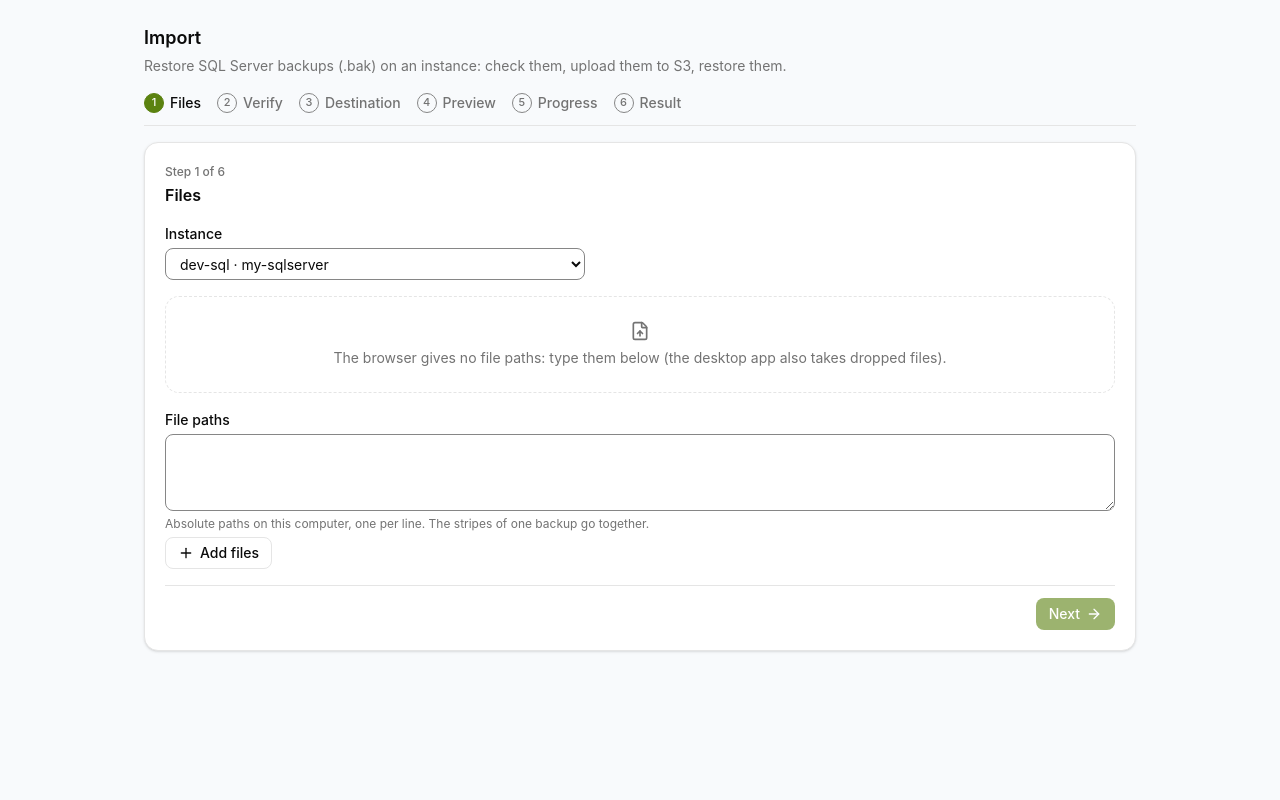
Test case: ImportPage › refuses a relative path and shows why the inspection failed
Type "backups/app.bak" into the text box labelled "File paths" at {"x": 640, "y": 472}, box 165,434 -> 1115,510
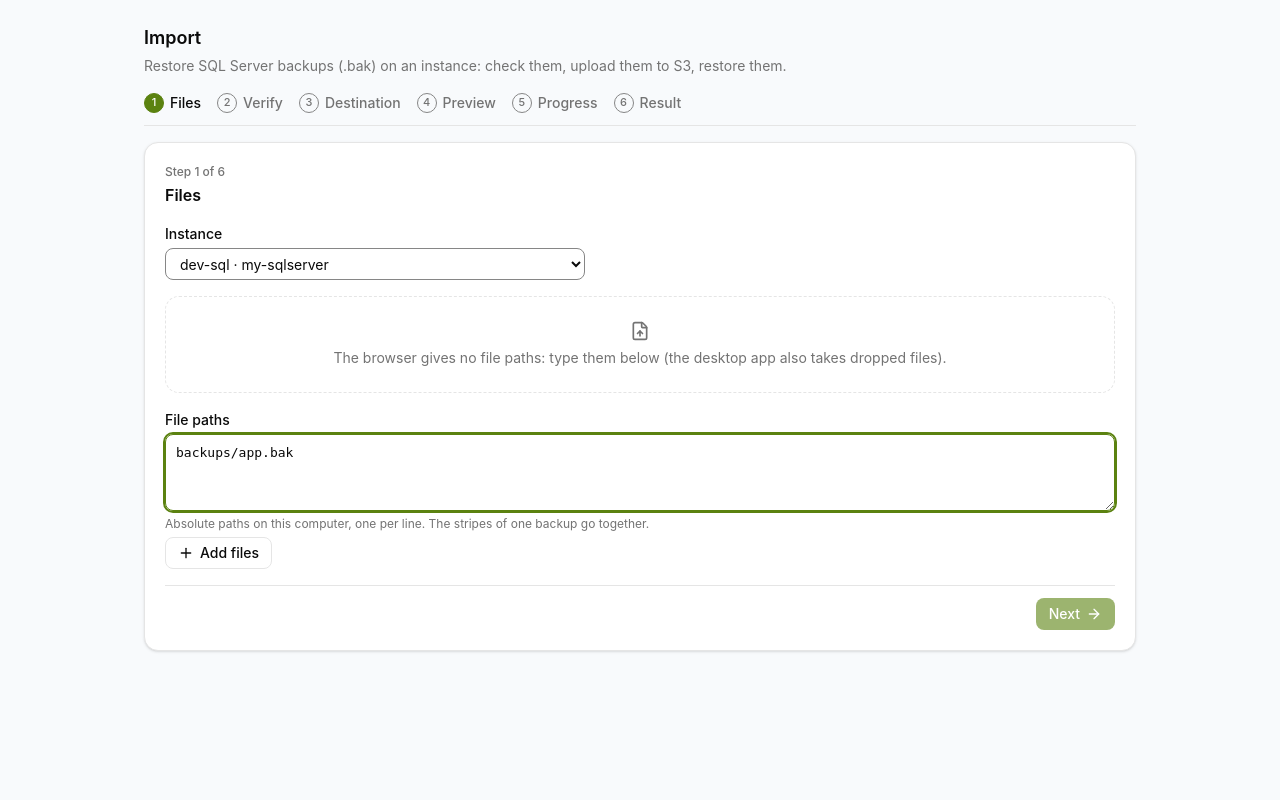
Click the button "Add files" at {"x": 218, "y": 552}, box 165,536 -> 272,568
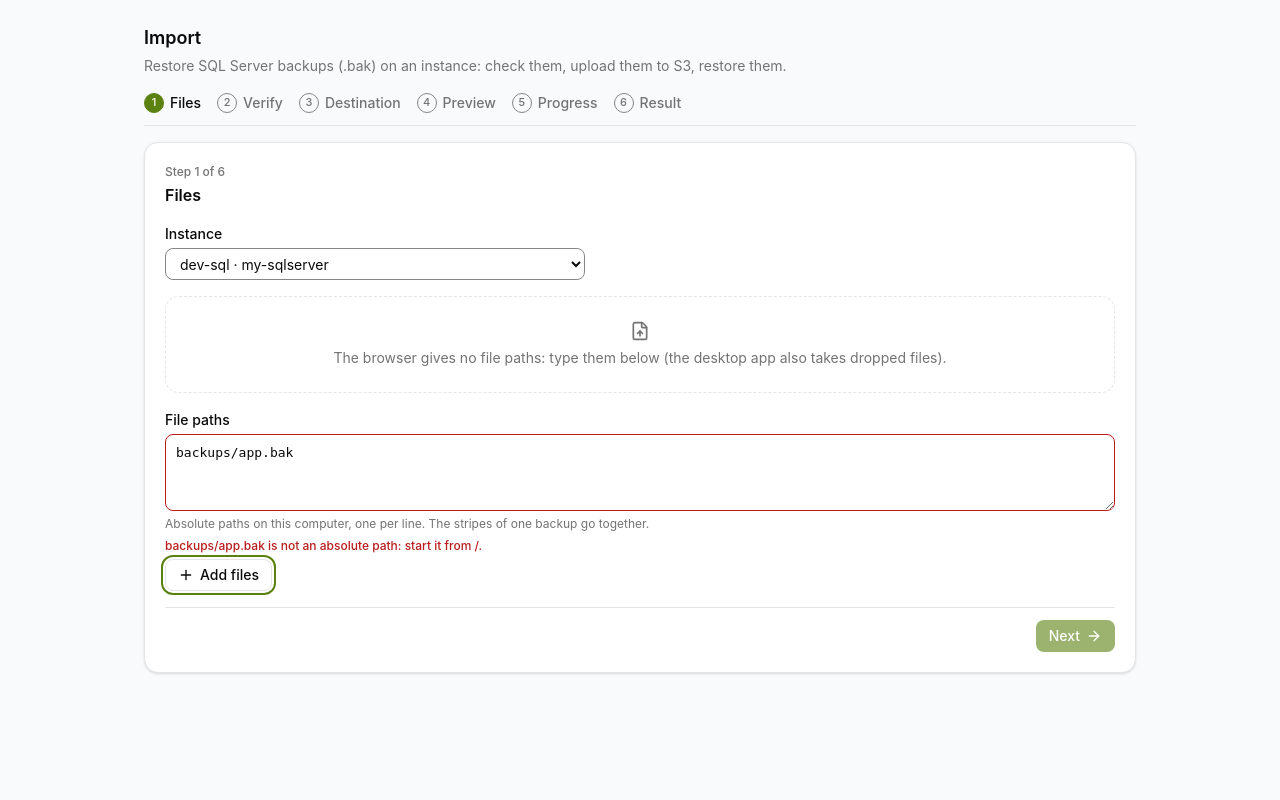
Replace the text in the text box labelled "File paths" with "/data/missing.bak" at {"x": 640, "y": 472}, box 165,434 -> 1115,510
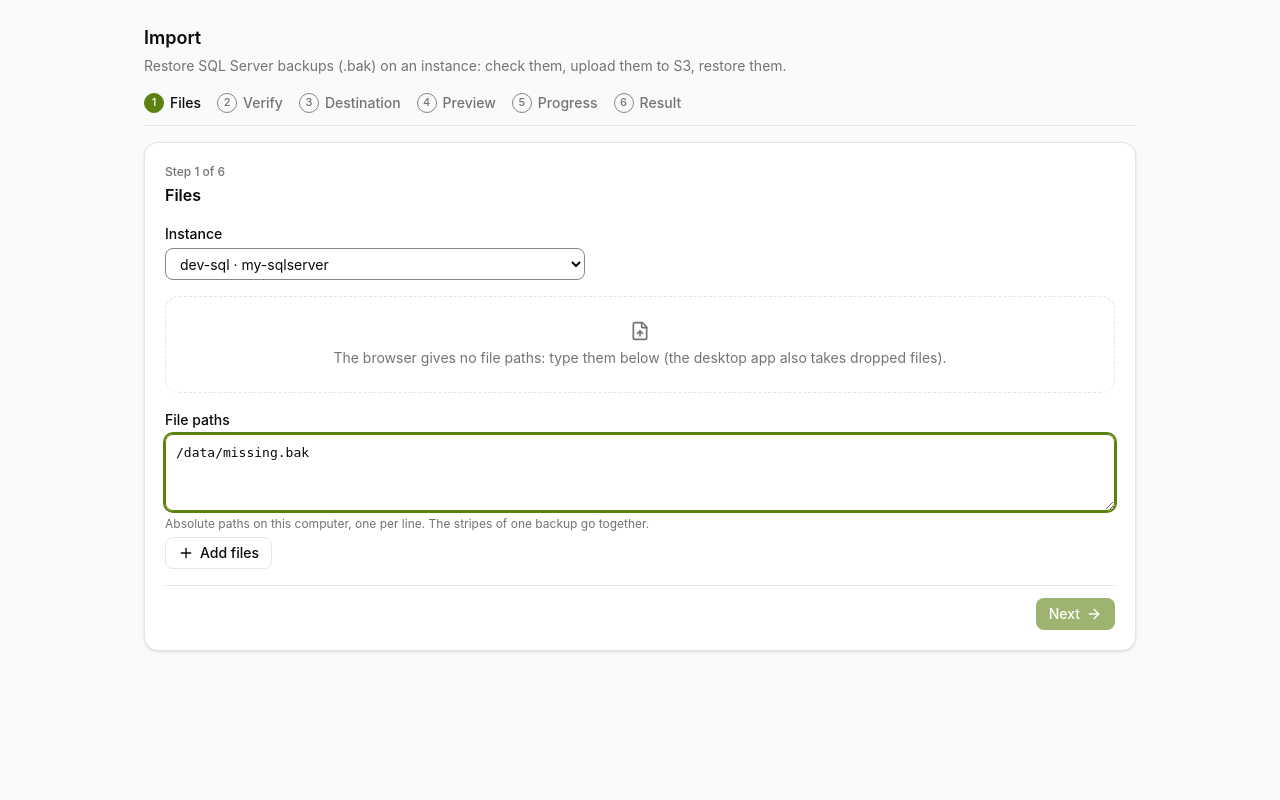
Click the button "Add files" at {"x": 218, "y": 552}, box 165,536 -> 272,568
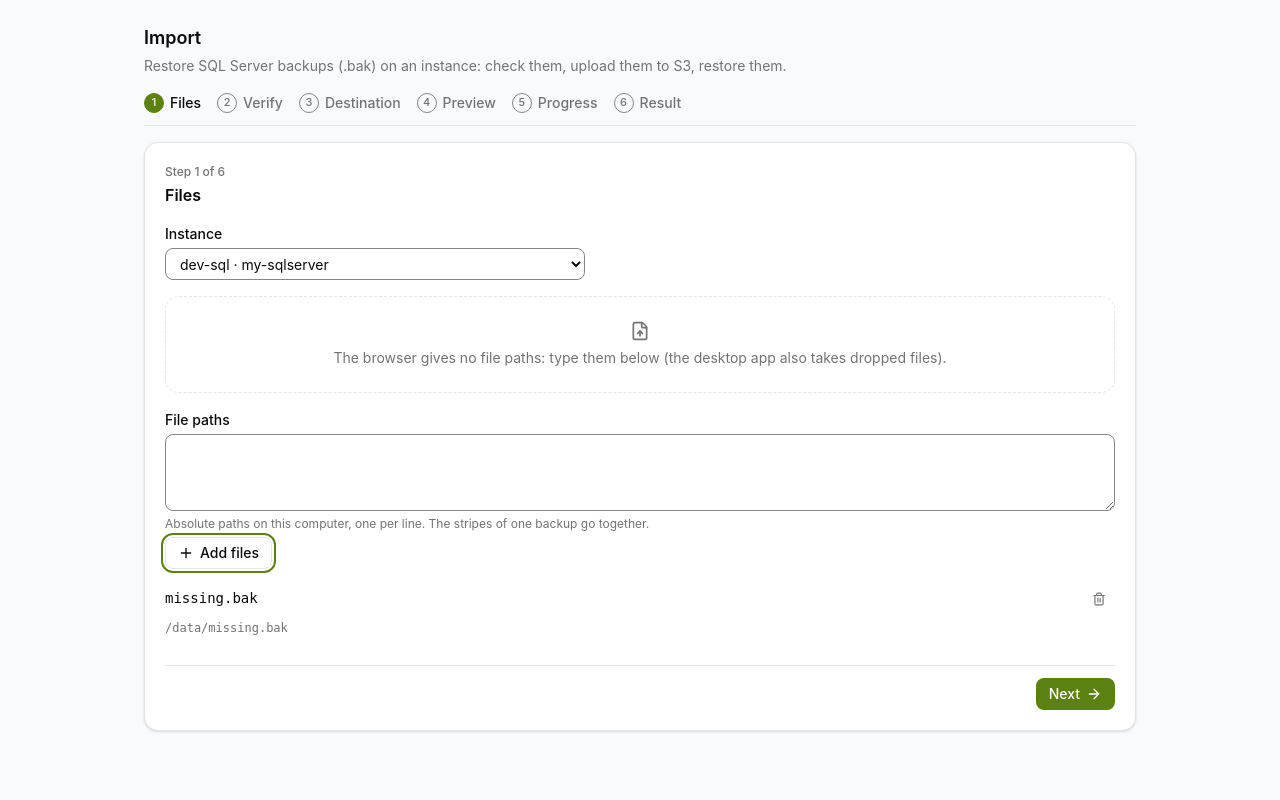
Click the button "Next" at {"x": 1075, "y": 694}, box 1036,678 -> 1115,710
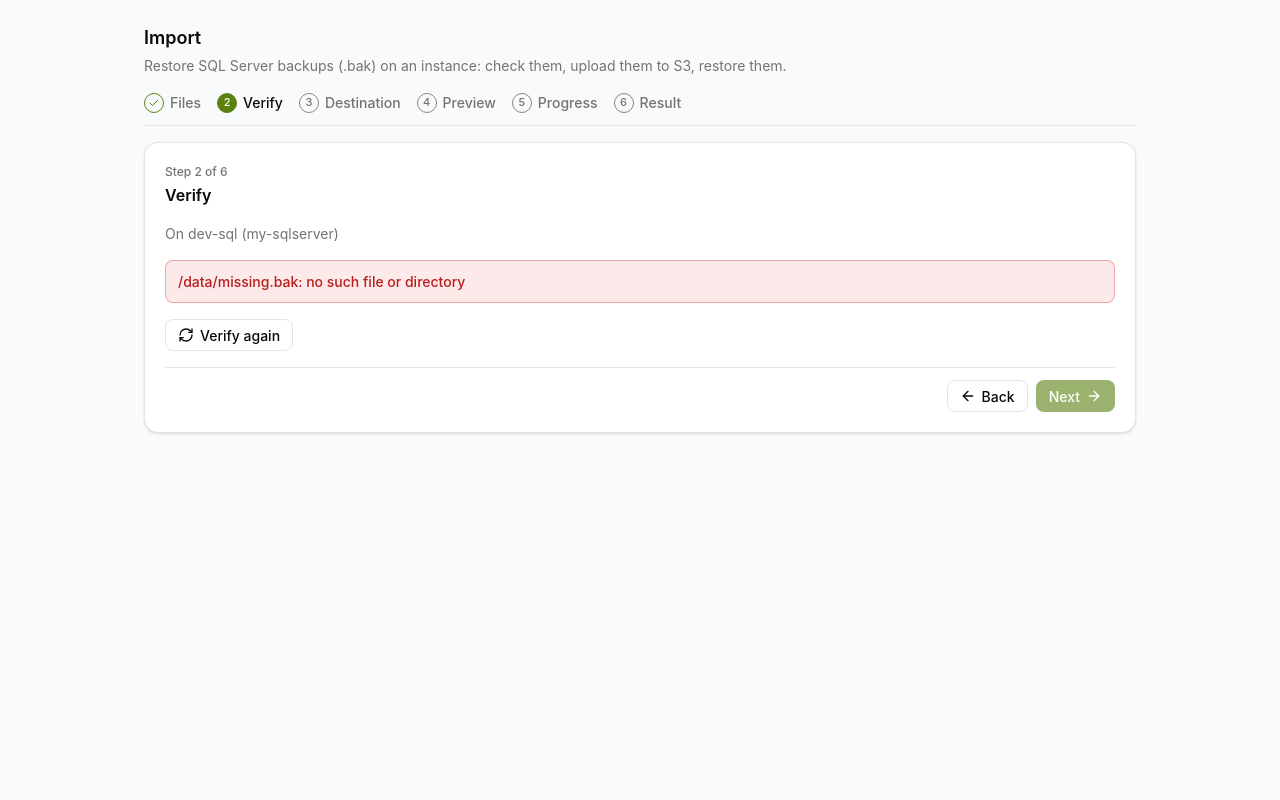
Now the message reads "/data/missing.bak: no such file or directory", box 178,273 -> 465,290
Now the button "Verify again" is shown, box 165,319 -> 293,351
Now the button "Next" is disabled, box 1036,380 -> 1115,412
